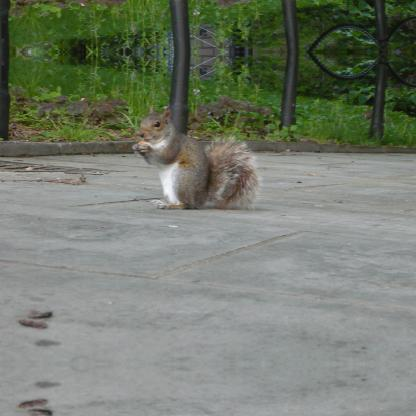Squirrel: (128, 107, 258, 211)
